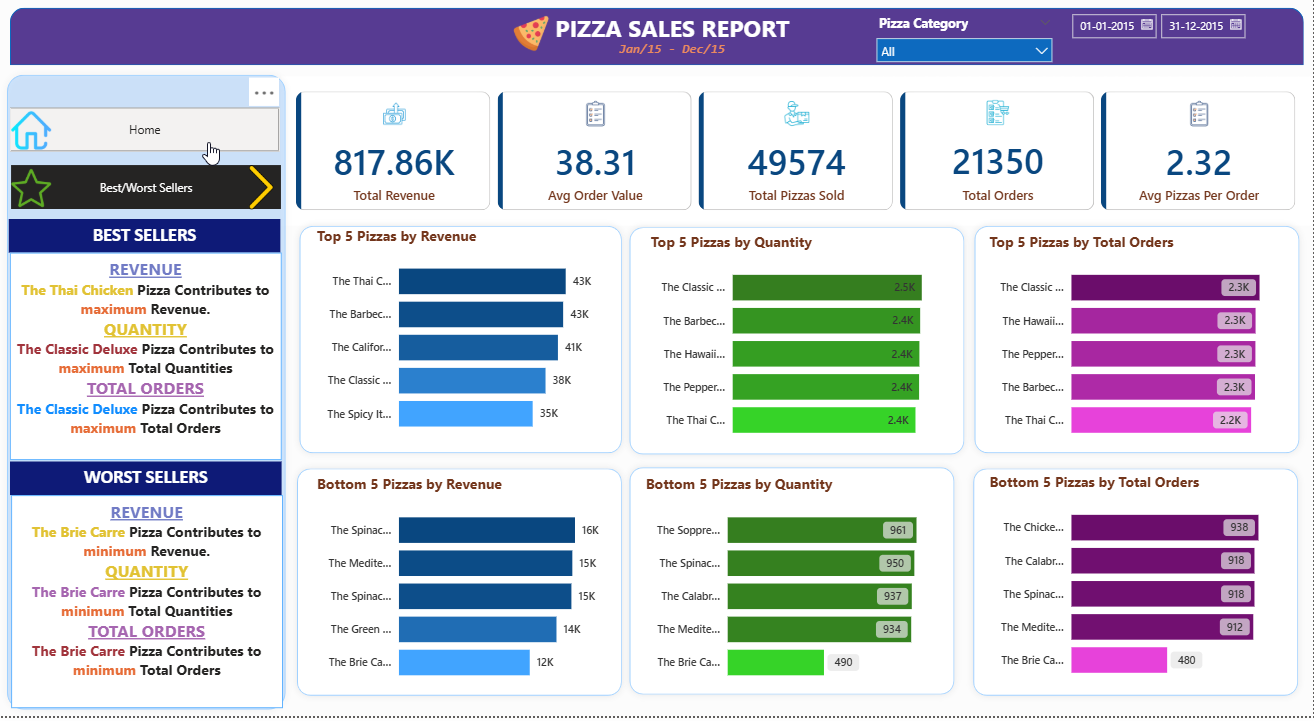

Layout of this report page (visuals, bound fields, positions):
{"tool":"powerbi","page":{"name":"Best/Worst Sellers","canvas":[1500,820],"ordinal":1},"visuals":[{"type":"cardVisual","fields":{"Data":["pizzasalesanalysis pizza_sales.Total Revenue","pizzasalesanalysis pizza_sales.Avg Order Value","pizzasalesanalysis pizza_sales.Total Pizzas Sold","pizzasalesanalysis pizza_sales.Total Orders","pizzasalesanalysis pizza_sales.Ang Pizzas Per Order"]},"box":[321.4,88.6,1178.6,170],"z":0},{"type":"shape","box":[11.4,10,1478.6,65.7],"z":1000},{"type":"textbox","box":[615.7,10,305.7,50],"z":2000},{"type":"textbox","box":[677.1,42.9,181.4,35.7],"z":3000},{"type":"image","box":[574.3,18.6,65.7,41.4],"z":4000},{"type":"shape","box":[334.3,251.4,384.3,275.7],"z":5000},{"type":"shape","box":[0,78.6,334.3,741.4],"z":6000},{"type":"textbox","box":[10,251.4,310,38.6],"z":7000},{"type":"textbox","box":[11.4,290,310,237.1],"z":8000},{"type":"textbox","box":[11.4,528.6,310,38.6],"z":9000},{"type":"textbox","box":[12.9,567.1,310,242.9],"z":10000},{"type":"slicer","fields":{"Values":["pizzasalesanalysis pizza_sales.pizza_category"]},"box":[991.4,12.9,221.4,65.7],"z":11000},{"type":"slicer","fields":{"Values":["pizzasalesanalysis pizza_sales.order_date"]},"box":[1212.9,7.1,221.4,68.6],"z":12000},{"type":"shape","box":[711.4,252.9,398.6,275.7],"z":13000},{"type":"shape","box":[1105.7,251.4,387.1,275.7],"z":14000},{"type":"shape","box":[331.4,528.6,387.1,275.7],"z":15000},{"type":"shape","box":[711.4,527.1,387.1,275.7],"z":16000},{"type":"shape","box":[1104.3,528.6,387.1,275.7],"z":17000},{"type":"barChart","title":"Top 5 Pizzas by Revenue","fields":{"Category":["pizzasalesanalysis pizza_sales.pizza_name"],"Y":["pizzasalesanalysis pizza_sales.Total Revenue"]},"box":[357.1,258.6,344.3,251.4],"z":18000},{"type":"barChart","title":"Bottom 5 Pizzas by Revenue","fields":{"Category":["pizzasalesanalysis pizza_sales.pizza_name"],"Y":["pizzasalesanalysis pizza_sales.Total Revenue"]},"box":[357.1,542.9,344.3,251.4],"z":19000},{"type":"barChart","title":"Top 5 Pizzas by Quantity","fields":{"Category":["pizzasalesanalysis pizza_sales.pizza_name"],"Y":["pizzasalesanalysis pizza_sales.Total Pizzas Sold"]},"box":[738.6,265.7,344.3,251.4],"z":20000},{"type":"barChart","title":"Bottom 5 Pizzas by Quantity","fields":{"Category":["pizzasalesanalysis pizza_sales.pizza_name"],"Y":["pizzasalesanalysis pizza_sales.Total Pizzas Sold"]},"box":[732.9,542.9,344.3,251.4],"z":21000},{"type":"barChart","title":"Top 5 Pizzas by Total Orders","fields":{"Category":["pizzasalesanalysis pizza_sales.pizza_name"],"Y":["pizzasalesanalysis pizza_sales.Total Orders"]},"box":[1125.7,265.7,344.3,251.4],"z":22000},{"type":"barChart","title":"Bottom 5 Pizzas by Total Orders","fields":{"Category":["pizzasalesanalysis pizza_sales.pizza_name"],"Y":["pizzasalesanalysis pizza_sales.Total Orders"]},"box":[1125.7,540,344.3,251.4],"z":23000},{"type":"pageNavigator","box":[12.9,190,308.6,50],"z":23001},{"type":"pageNavigator","box":[11.4,124.3,308.6,50],"z":23002},{"type":"image","box":[252.9,190,91.4,50],"z":23003},{"type":"image","box":[12.9,118.6,45.7,62.9],"z":23004},{"type":"image","box":[12.9,182.9,45.7,65.7],"z":23005}]}

Visuals, with their boxes in screenshot pixels (x1, y1, x2, y2), scaled from the page's 1500x820 canvas onto the 1314x721 screenshot:
cardVisual - pizzasalesanalysis pizza_sales.Total Revenue x pizzasalesanalysis pizza_sales.Avg Order Value: region(282, 78, 1313, 227)
shape: region(10, 9, 1305, 67)
textbox: region(539, 9, 807, 53)
textbox: region(593, 38, 752, 69)
image: region(503, 16, 561, 53)
shape: region(293, 221, 629, 463)
shape: region(0, 69, 293, 720)
textbox: region(9, 221, 280, 255)
textbox: region(10, 255, 282, 463)
textbox: region(10, 465, 282, 499)
textbox: region(11, 499, 283, 712)
slicer - pizzasalesanalysis pizza_sales.pizza_category: region(868, 11, 1062, 69)
slicer - pizzasalesanalysis pizza_sales.order_date: region(1063, 6, 1256, 67)
shape: region(623, 222, 972, 465)
shape: region(969, 221, 1308, 463)
shape: region(290, 465, 629, 707)
shape: region(623, 463, 962, 706)
shape: region(967, 465, 1306, 707)
"Top 5 Pizzas by Revenue" barChart: region(313, 227, 614, 448)
"Bottom 5 Pizzas by Revenue" barChart: region(313, 477, 614, 698)
"Top 5 Pizzas by Quantity" barChart: region(647, 234, 949, 455)
"Bottom 5 Pizzas by Quantity" barChart: region(642, 477, 944, 698)
"Top 5 Pizzas by Total Orders" barChart: region(986, 234, 1288, 455)
"Bottom 5 Pizzas by Total Orders" barChart: region(986, 475, 1288, 696)
pageNavigator: region(11, 167, 282, 211)
pageNavigator: region(10, 109, 280, 153)
image: region(222, 167, 302, 211)
image: region(11, 104, 51, 160)
image: region(11, 161, 51, 219)
